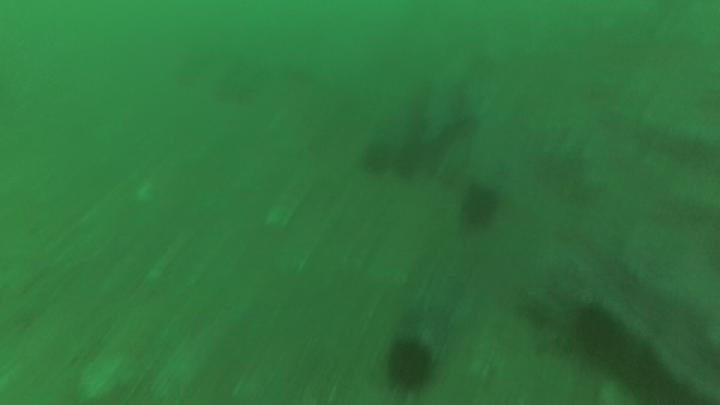echinus: (372, 323, 450, 402), (576, 301, 631, 375), (462, 178, 499, 234)
